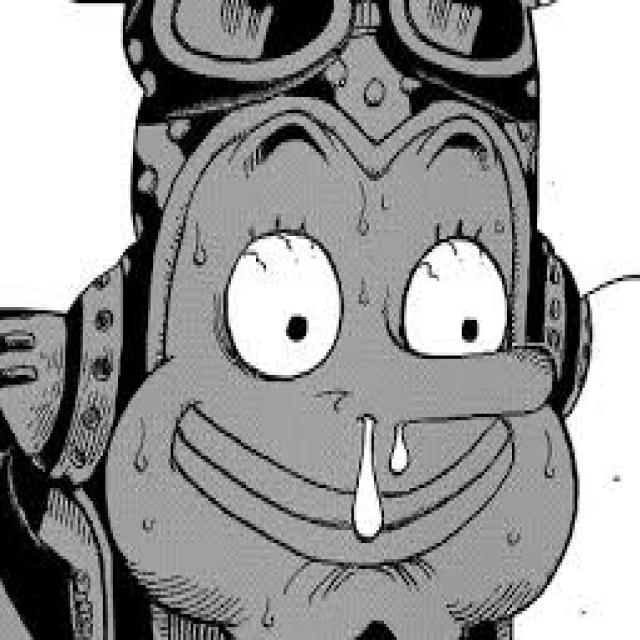Usopp: (0, 0, 595, 640)
